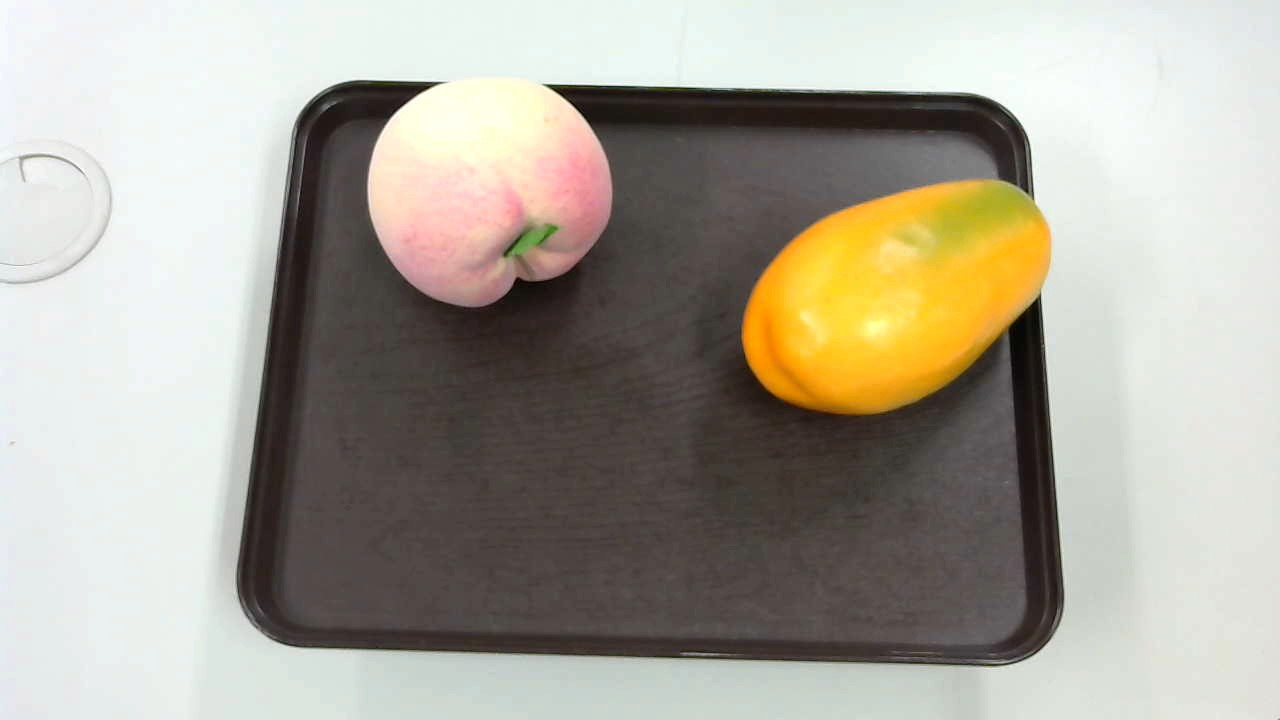papya: (731, 172, 1051, 418)
peach: (361, 67, 614, 305)
